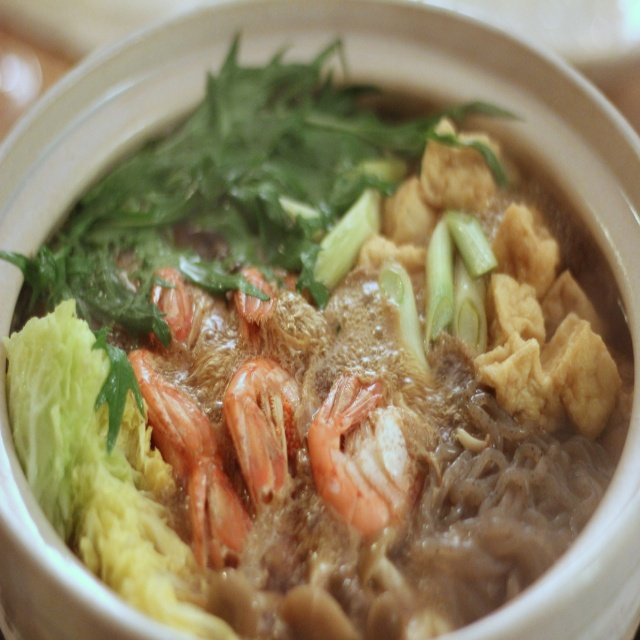Shrimp: (122, 263, 412, 582)
